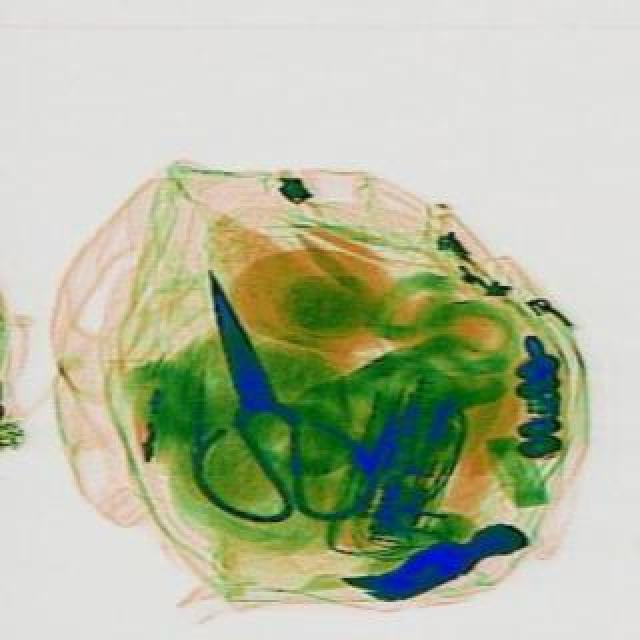pliers: (124, 244, 384, 548)
